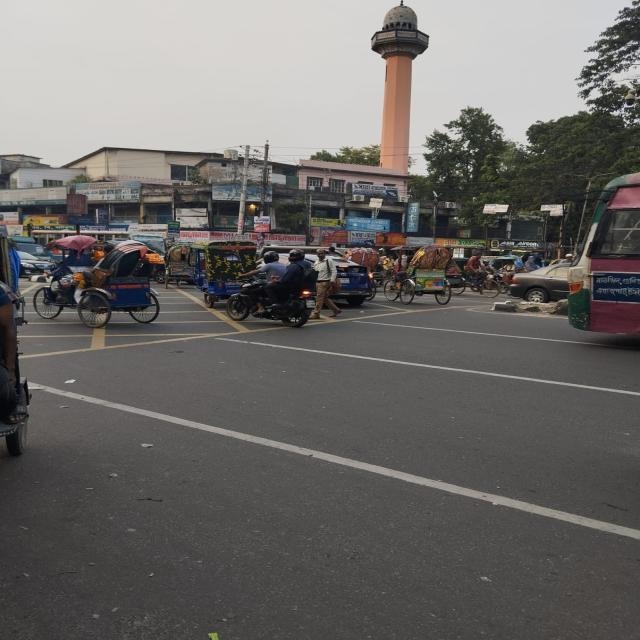person: (310, 248, 341, 320)
